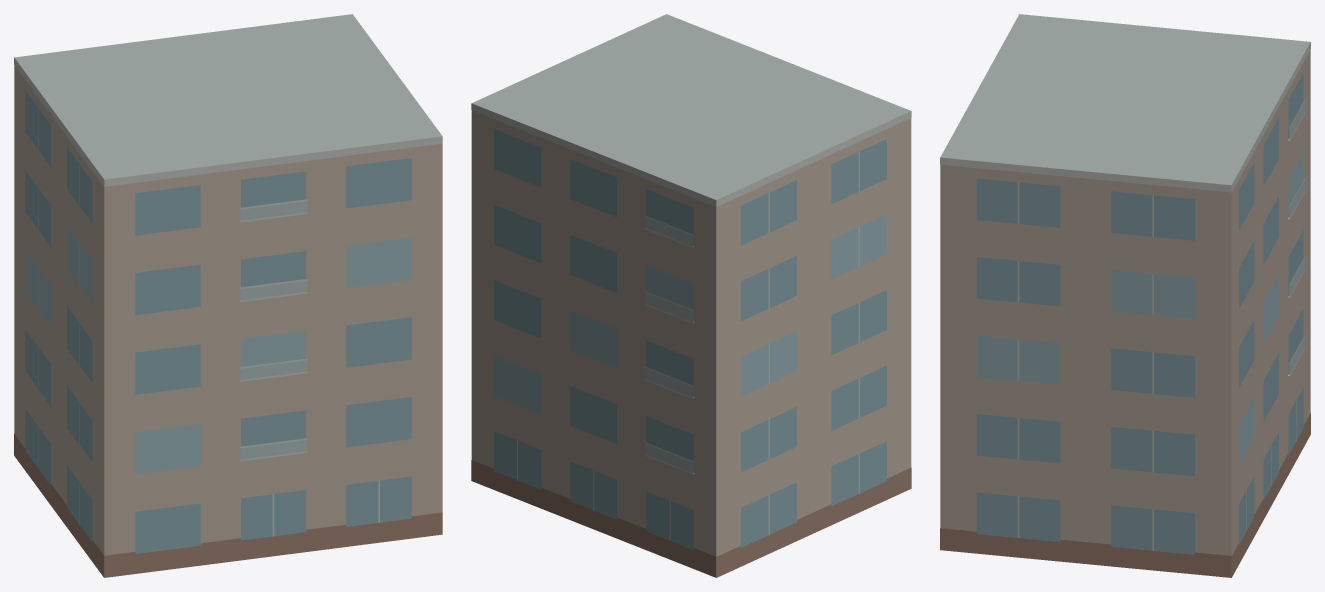
The model's file is survey-upis-33022702.glb.
The picture shows the model from 3 angles, left to right: view 1: azimuth 30°, elevation 25°; view 2: azimuth 150°, elevation 25°; view 3: azimuth 270°, elevation 25°; orthographic projection. The views are drawn at different scales.
Visible parts, largest first — view 1: survey-upis-33022702.tmp; view 2: survey-upis-33022702.tmp; view 3: survey-upis-33022702.tmp.
Boxes of the visible parts, x1,y1,x2,y2 form: survey-upis-33022702.tmp: [14, 14, 442, 577]; survey-upis-33022702.tmp: [471, 14, 911, 577]; survey-upis-33022702.tmp: [940, 14, 1310, 577].
Bounding box in the file's own units: 12.55 × 13.4 × 11.48.
